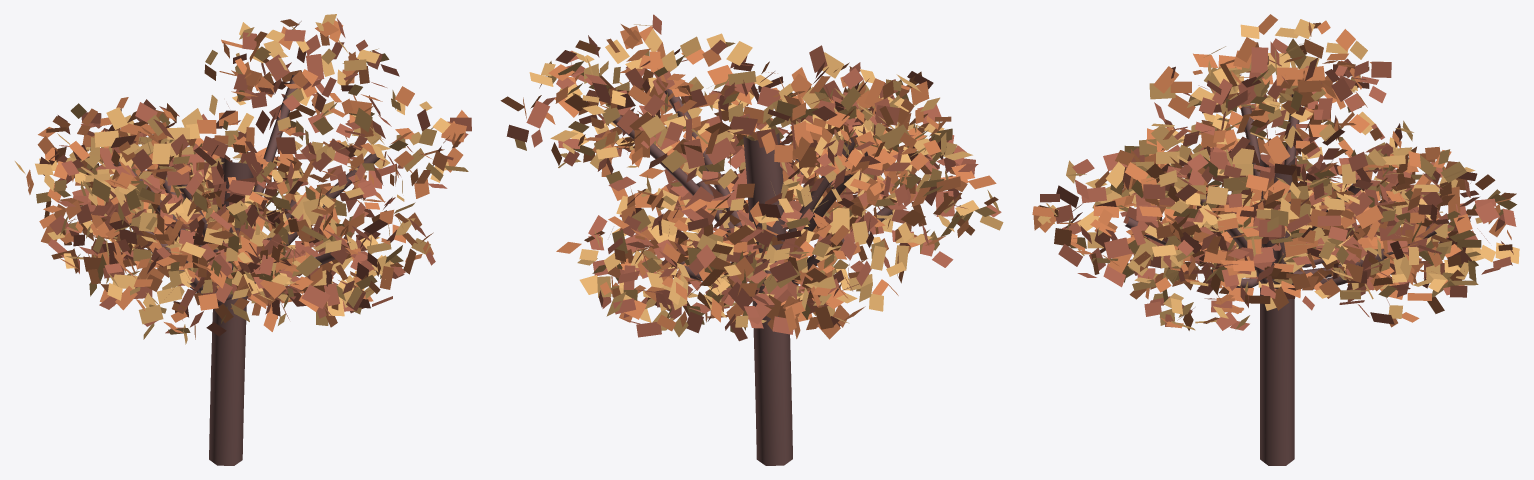
File: copper-tree.glb
3 views of the same model, side by side, from view 1: azimuth 30°, elevation 25°; view 2: azimuth 150°, elevation 25°; view 3: azimuth 270°, elevation 25° (orthographic). The views are drawn at different scales.
Visible parts, largest first — view 1: Leaves_0, Leaves_1, Leaves_2, BranchNetwork; view 2: Leaves_0, Leaves_1, Leaves_2, BranchNetwork; view 3: Leaves_0, Leaves_2, Leaves_1, BranchNetwork.
Boxes of the visible parts, bbox=[...] form: Leaves_0: bbox=[26, 19, 468, 339]; Leaves_1: bbox=[15, 14, 468, 344]; Leaves_2: bbox=[39, 18, 471, 336]; BranchNetwork: bbox=[113, 75, 380, 465]; Leaves_0: bbox=[500, 24, 998, 339]; Leaves_1: bbox=[514, 24, 1003, 336]; Leaves_2: bbox=[506, 14, 1001, 341]; BranchNetwork: bbox=[612, 89, 892, 465]; Leaves_0: bbox=[1032, 14, 1516, 330]; Leaves_2: bbox=[1040, 38, 1516, 330]; Leaves_1: bbox=[1037, 19, 1519, 330]; BranchNetwork: bbox=[1125, 86, 1436, 465].
Size of the model in its own units: 6.36 by 5.63 by 6.47.
